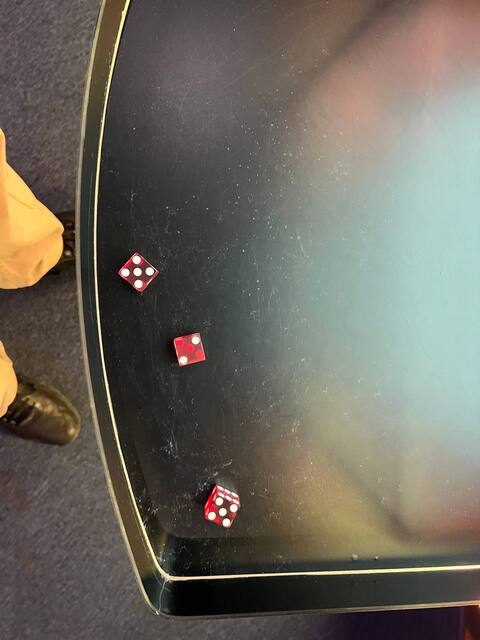five: (115, 250, 159, 294), (204, 495, 240, 530)
two: (172, 331, 211, 368)
